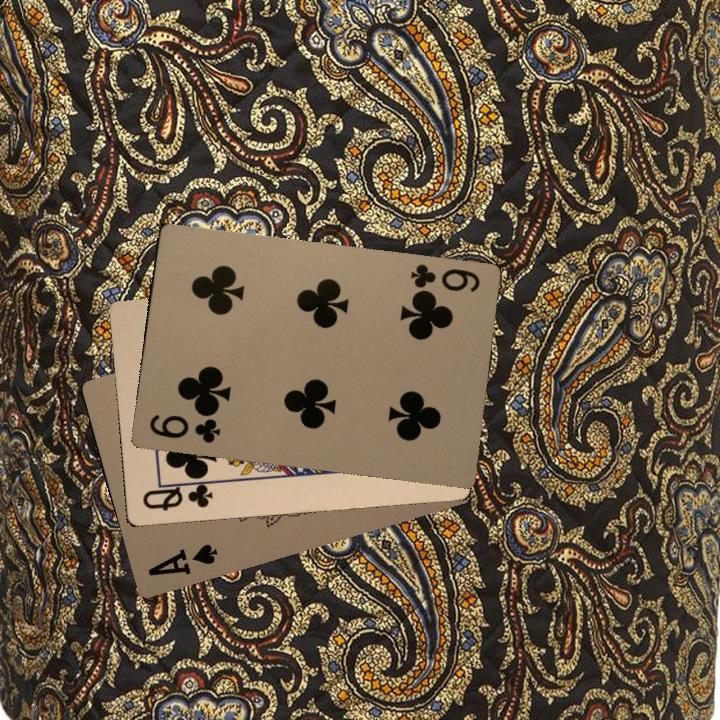6c: (406, 260, 483, 300), (145, 410, 223, 446)
As: (144, 539, 220, 579)
Qc: (138, 476, 216, 514)
